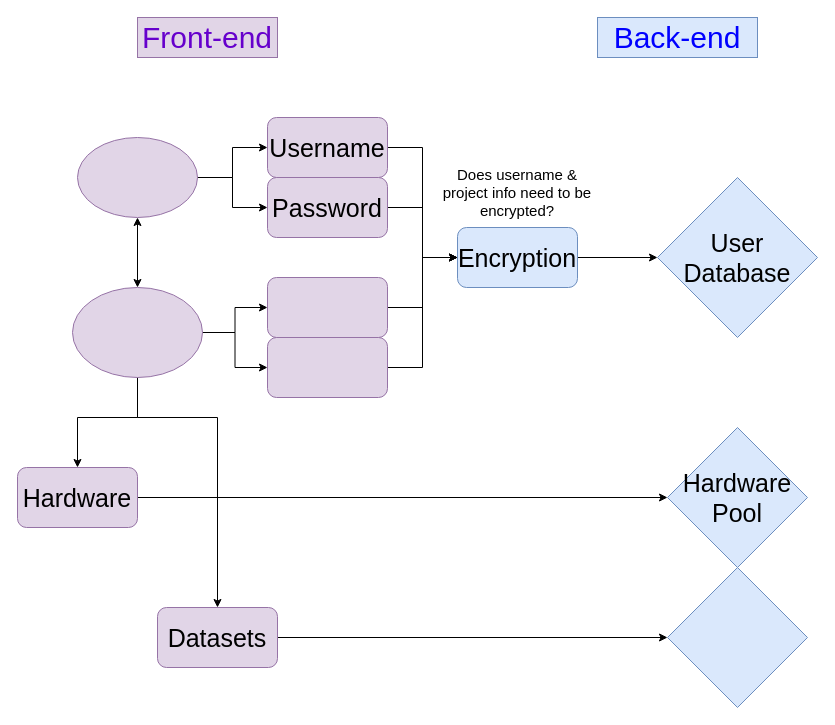
Some shapes in this 835 by 725 pixel diagram are drawn without their labels. The shapes that lost their labels are listed below. From the top down, each one's centre as x and y in pixels, then its label:
At point 137,177: "User Portal".
At point 327,307: "Project ID".
At point 137,332: "Dashboard".
At point 327,367: "Project Description".
At point 737,637: "Dataset Database".
